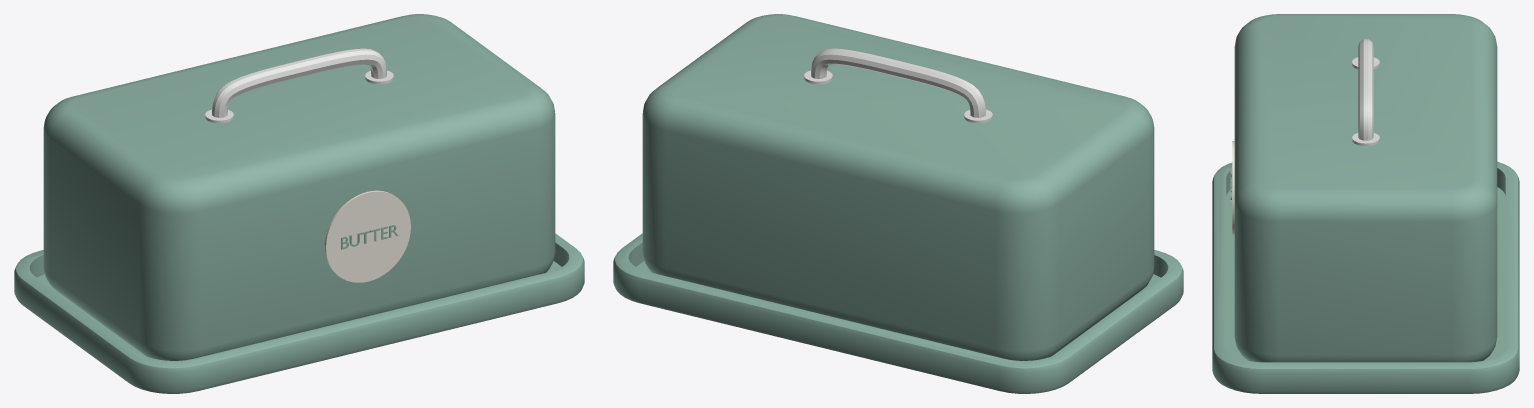
The model's file is butter_dish.glb.
The picture shows the model from 3 angles, left to right: view 1: azimuth 30°, elevation 25°; view 2: azimuth 150°, elevation 25°; view 3: azimuth 270°, elevation 25°; orthographic projection. The views are drawn at different scales.
Visible parts, largest first — view 1: True Decor Butter Dish with Lid; view 2: True Decor Butter Dish with Lid; view 3: True Decor Butter Dish with Lid.
Boxes of the visible parts, x1,y1,x2,y2 form: True Decor Butter Dish with Lid: (14, 14, 584, 393); True Decor Butter Dish with Lid: (613, 14, 1183, 393); True Decor Butter Dish with Lid: (1212, 14, 1519, 393).
Size of the model in its own units: 0.18 by 0.0877 by 0.11.
